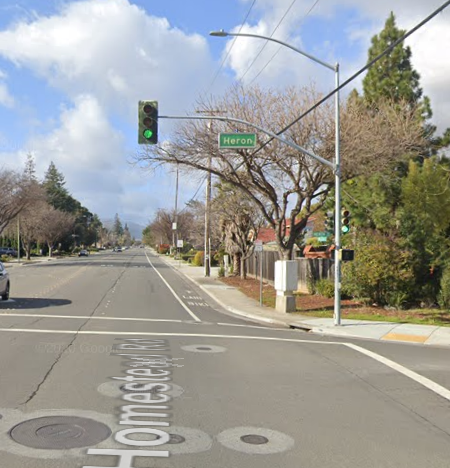green_light: (139, 101, 157, 143), (339, 209, 352, 234)
